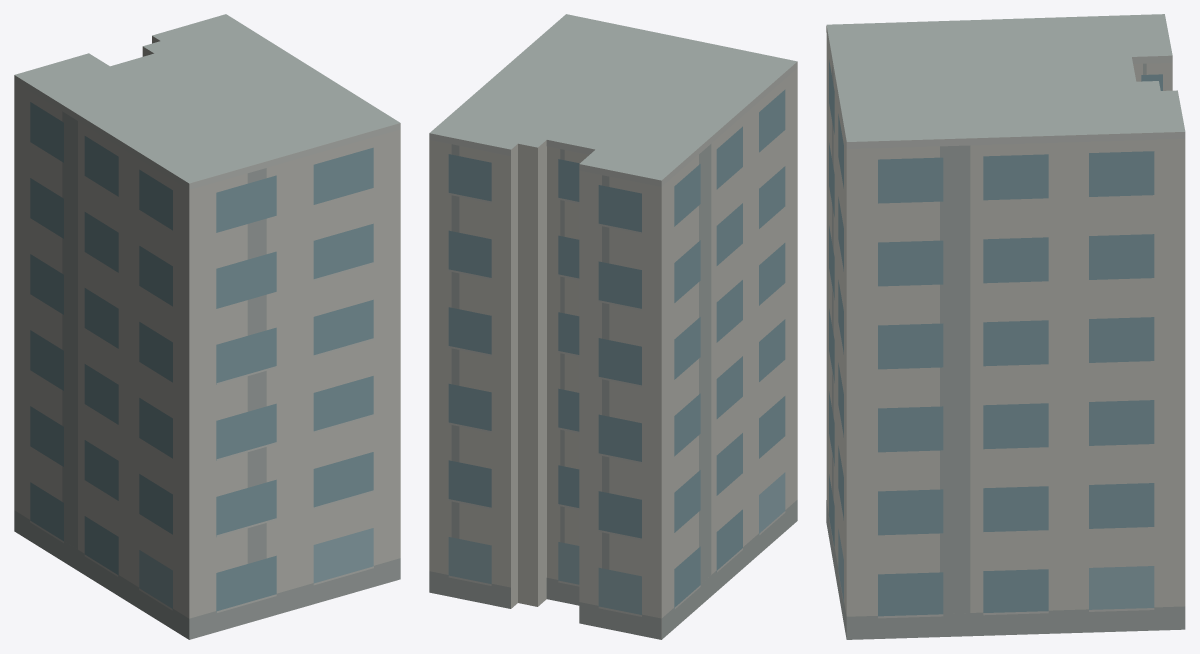
File: survey-upis-32986418.glb
The picture shows the model from 3 angles, left to right: view 1: azimuth 30°, elevation 25°; view 2: azimuth 150°, elevation 25°; view 3: azimuth 270°, elevation 25°; orthographic projection. The views are drawn at different scales.
Parts seen in each view (by area): view 1: survey-upis-32986418.tmp; view 2: survey-upis-32986418.tmp; view 3: survey-upis-32986418.tmp.
Part boxes in pixels (box(x1,y1,x2,y2)): survey-upis-32986418.tmp: box(14, 14, 400, 639); survey-upis-32986418.tmp: box(429, 14, 797, 639); survey-upis-32986418.tmp: box(826, 14, 1185, 639).
Bounding box in the file's own units: 9.39 × 17 × 11.12.
